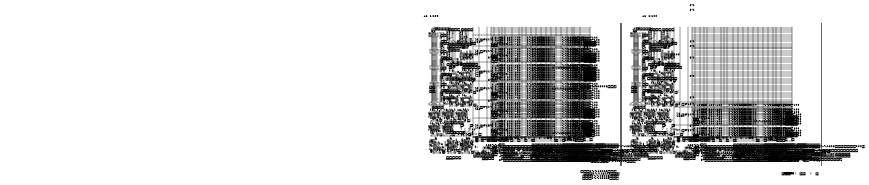door: (131, 24, 136, 27), (576, 24, 580, 27), (592, 22, 596, 24), (148, 22, 151, 24), (8, 171, 11, 173), (452, 171, 455, 173), (570, 14, 573, 15), (79, 142, 81, 143), (126, 14, 128, 15), (524, 142, 526, 143)
room: (526, 44, 536, 49), (82, 44, 91, 49)
staircase: (58, 42, 74, 51), (503, 42, 519, 51), (523, 42, 539, 51), (79, 42, 94, 51)
window: (78, 166, 80, 167), (586, 22, 588, 23), (142, 22, 143, 23), (148, 22, 149, 23), (593, 22, 594, 23), (523, 166, 524, 167)
